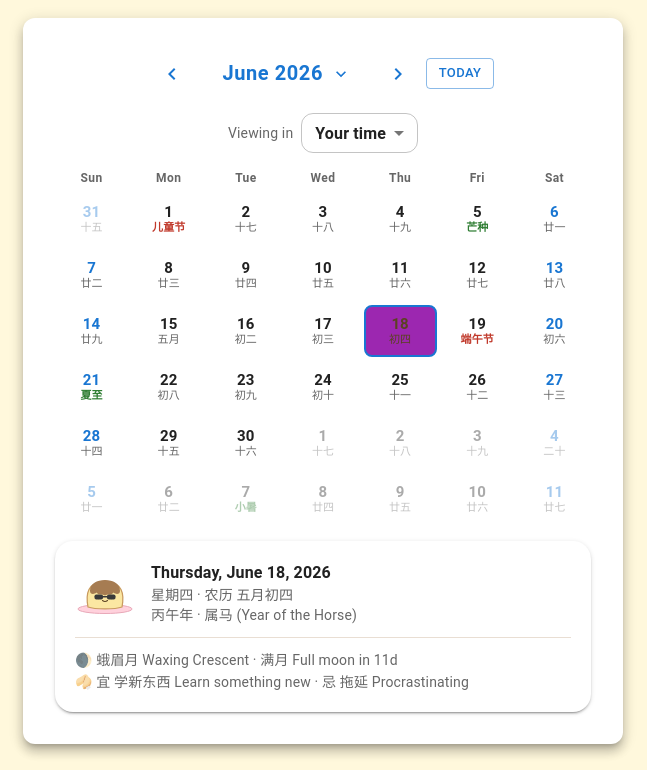
it: Calendar › shows the 万年历 detail for a clicked day
Click the button with aria-label "June 1, 2026" at (169, 219), box [132,193,205,245]
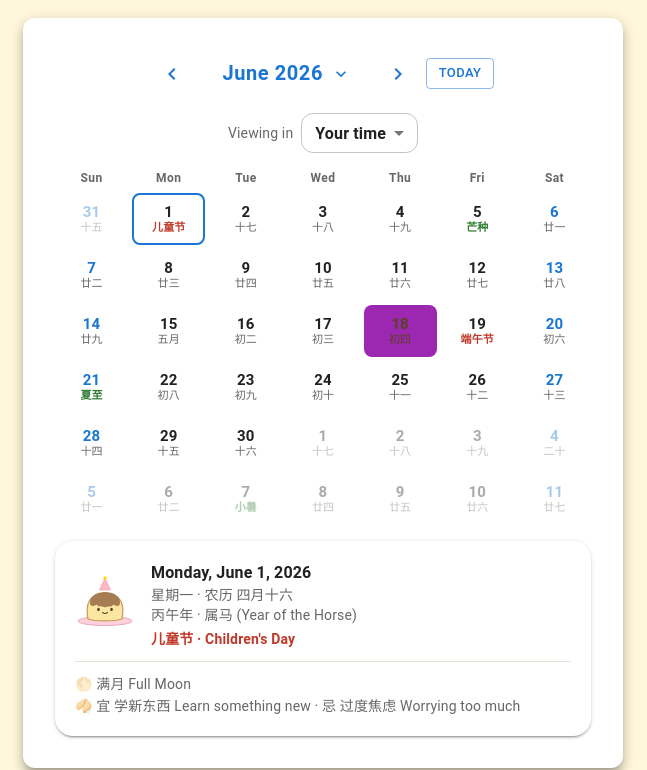
Expected: the text "农历" is shown, [194,587,236,603]
Result: the text "Monday, June 1, 2026" is shown at [151,563,311,582]
